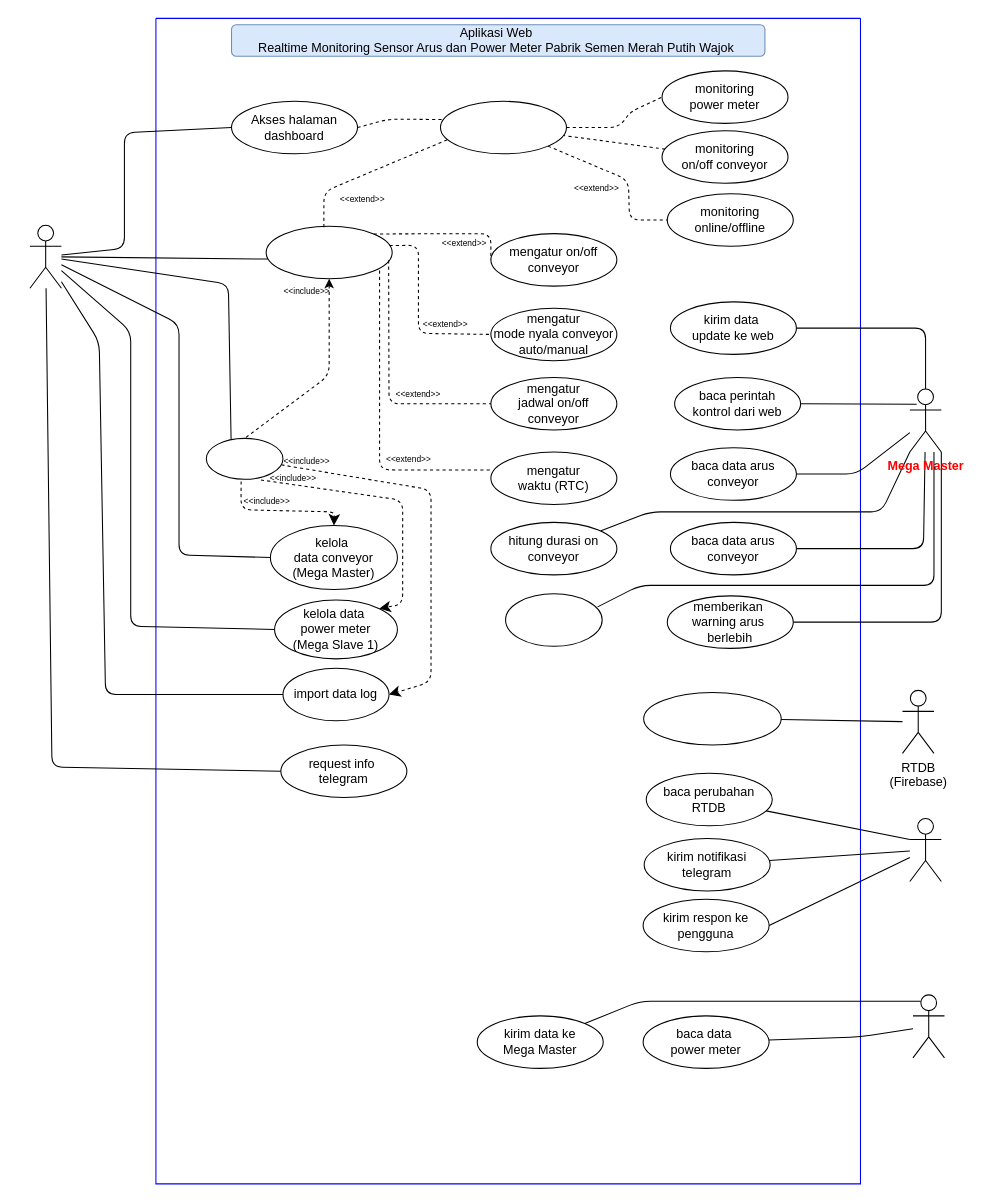
Some shapes in this 986 by 1202 pixel diagram are drawn without their labels. The shapes that lost their labels are listed below. From the top down, each one's box as (x1, y1, x2, y2) in pixels, then its label:
(439, 100, 566, 154): monitoring per kontroler PJU
(29, 224, 61, 288): pengguna
(265, 225, 392, 279): melakukan kontrol mega master
(205, 437, 283, 479): login
(505, 593, 602, 646): atur on/off conveyor
(643, 691, 781, 745): sebarkan perubahan data RTDB
(909, 817, 941, 881): bot telegram (NodeJS)
(912, 994, 944, 1058): Mega Slave 1
